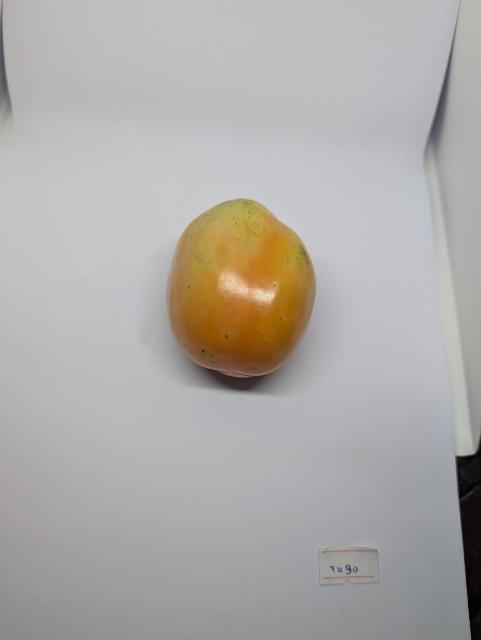turning: (154, 184, 328, 390)
